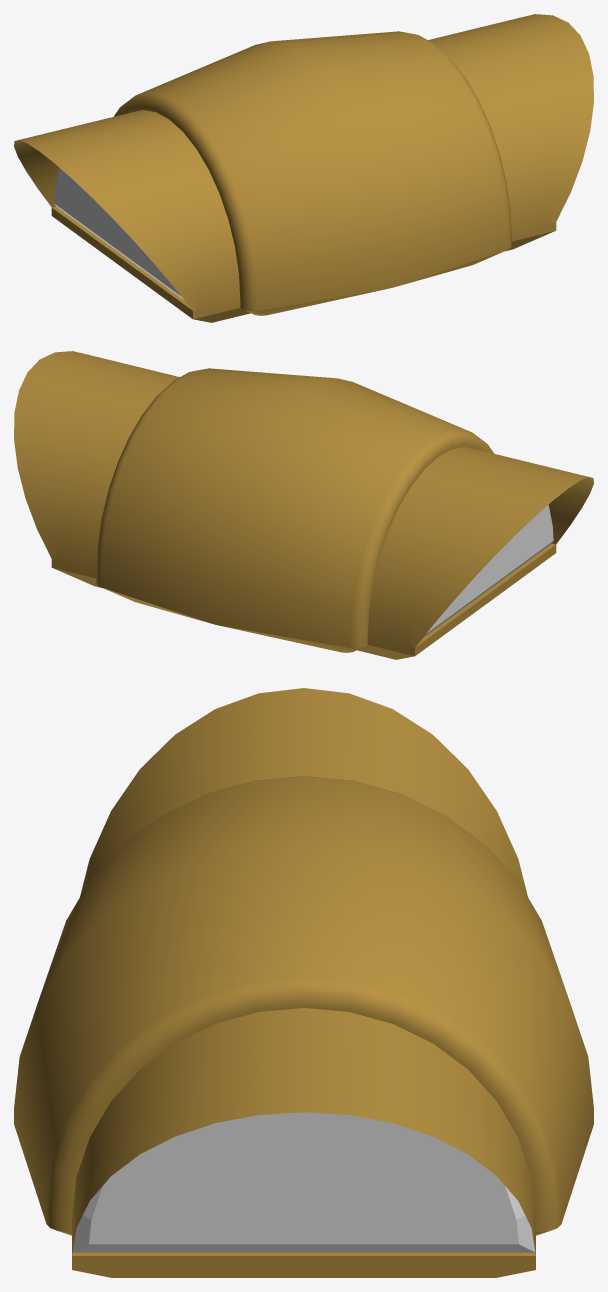
The model's file is alarm.glb.
3 renders of one model, top to bottom at view 1: azimuth 30°, elevation 25°; view 2: azimuth 150°, elevation 25°; view 3: azimuth 270°, elevation 25°, orthographic. The views are drawn at different scales.
Visible parts, largest first — view 1: Cylinder; view 2: Cylinder; view 3: Cylinder.
Boxes of the visible parts, x1,y1,x2,y2 form: Cylinder: (14, 14, 593, 322); Cylinder: (14, 351, 593, 659); Cylinder: (14, 688, 593, 1277).
Size of the model in its own units: 2.96 by 1.01 by 1.71.
